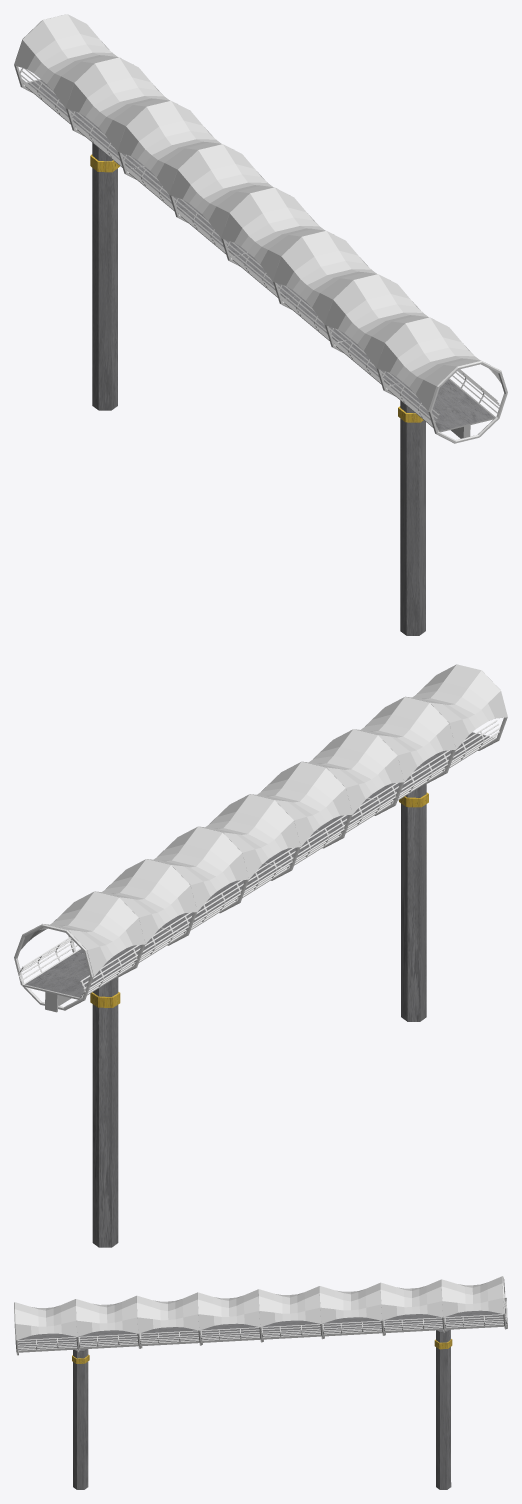
The model's file is puente.fbx.
The picture shows the model from 3 angles, top to bottom: view 1: azimuth 30°, elevation 25°; view 2: azimuth 150°, elevation 25°; view 3: azimuth 270°, elevation 25°; orthographic projection. The views are drawn at different scales.
Visible parts, largest first — view 1: Plane, Cylinder; view 2: Plane, Cylinder; view 3: Plane, Cylinder.
Part boxes in pixels (bbox=[...]): Plane: bbox=[14, 14, 507, 443]; Cylinder: bbox=[90, 143, 425, 635]; Plane: bbox=[14, 664, 507, 1012]; Cylinder: bbox=[90, 783, 428, 1247]; Plane: bbox=[14, 1276, 507, 1355]; Cylinder: bbox=[72, 1329, 452, 1489].
Size of the model in its own units: 319 by 1336 by 2881.
